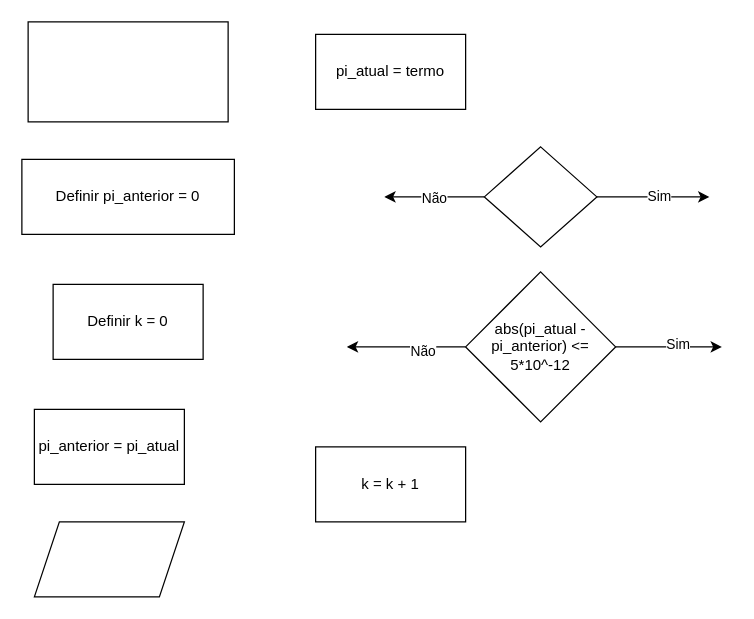
Some shapes in this 754 by 619 pixel diagram are drawn without their labels. Each missing label, with the centre of its shape:
"Exibir pi_atual" belongs at point 108,559.
"k > 0" belongs at point 540,196.
"termo = 4*(-1)^k/(2*k + 1)" belongs at point 127,71.
